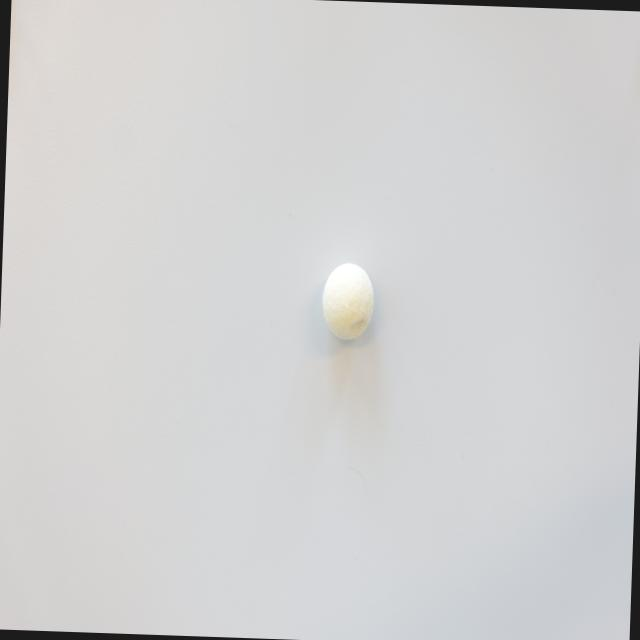Comtesse: (321, 260, 374, 340)
